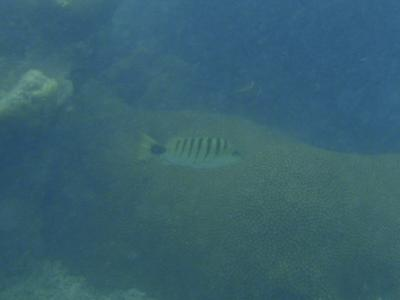Lutjanidae -Snappers-: (133, 126, 248, 172)
